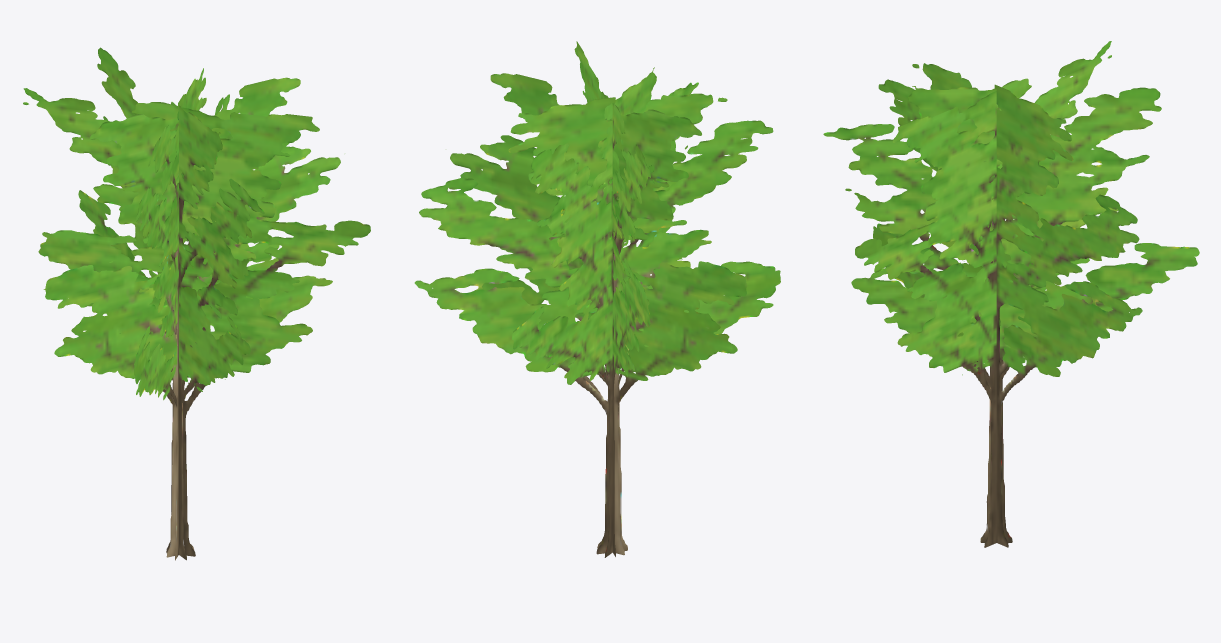
File: b-ginkgo.glb
3 renders of one model, left to right at view 1: azimuth 30°, elevation 25°; view 2: azimuth 150°, elevation 25°; view 3: azimuth 270°, elevation 25°, orthographic.
Visible parts, largest first — view 1: BackgroundTree; view 2: BackgroundTree; view 3: BackgroundTree.
Part boxes in pixels (x1,y1,x2,y2): BackgroundTree: (23,47,370,560); BackgroundTree: (414,41,780,557); BackgroundTree: (823,41,1199,547).
Bounding box in the file's own units: 1.77 × 2.4 × 1.85.
1 material, 1 textured.
